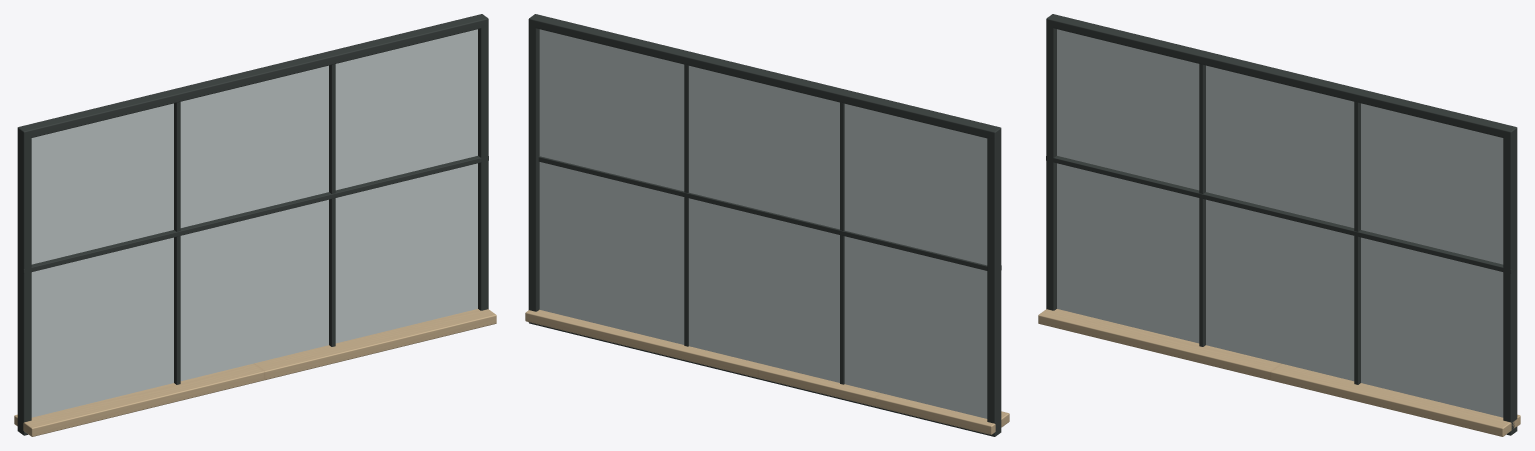
Rendered from grid-window-v1.glb.
3 renders of one model, left to right at view 1: azimuth 30°, elevation 25°; view 2: azimuth 150°, elevation 25°; view 3: azimuth 330°, elevation 25°, orthographic.
Visible parts, largest first — view 1: Steel jamb; view 2: Steel jamb; view 3: Steel jamb.
Part boxes in pixels (box(x1,y1,x2,y2)): Steel jamb: box(14, 14, 496, 436); Steel jamb: box(525, 14, 1009, 436); Steel jamb: box(1038, 14, 1520, 436).
Size of the model in its own units: 4 by 2.5 by 0.27.
3 materials, 1 textured.
